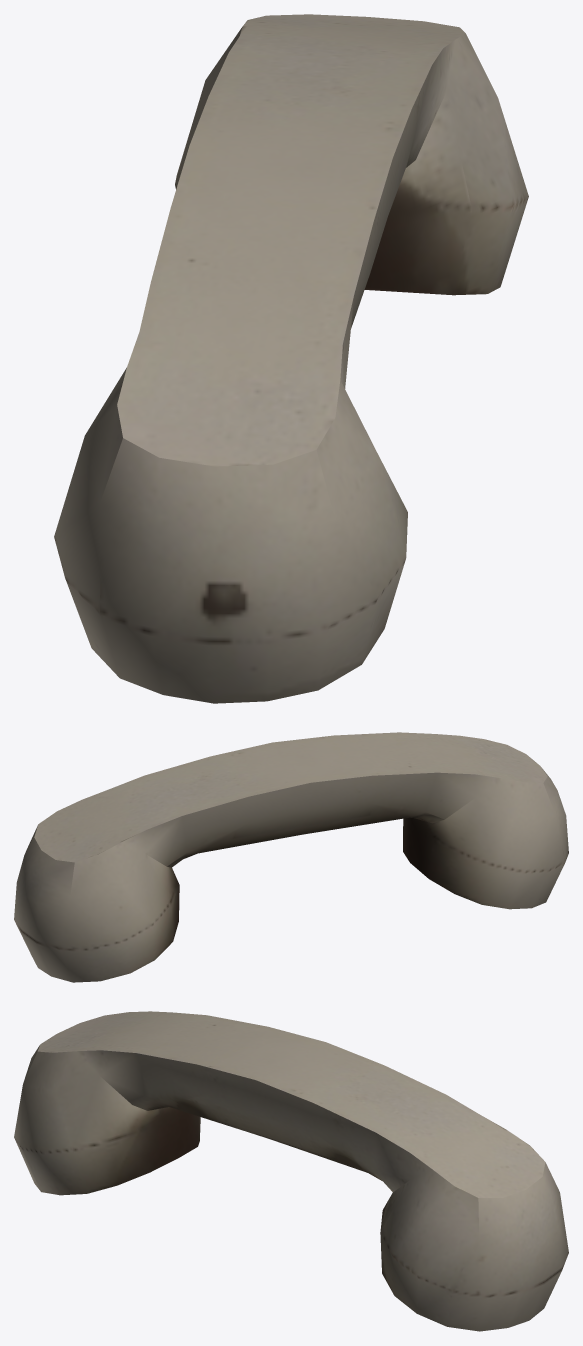
Rendered from P_Phone_Handle.fbx.
3 renders of one model, top to bottom at view 1: azimuth 30°, elevation 25°; view 2: azimuth 150°, elevation 25°; view 3: azimuth 270°, elevation 25°, orthographic. The views are drawn at different scales.
Visible parts, largest first — view 1: P_Phone_Handle; view 2: P_Phone_Handle; view 3: P_Phone_Handle.
Part boxes in pixels (x1,y1,x2,y2): P_Phone_Handle: (54,14,528,703); P_Phone_Handle: (14,732,568,982); P_Phone_Handle: (14,1011,568,1331).
Size of the model in its own units: 31.07 by 12.95 by 36.12.
Materials: 1 (1 with a texture image).
